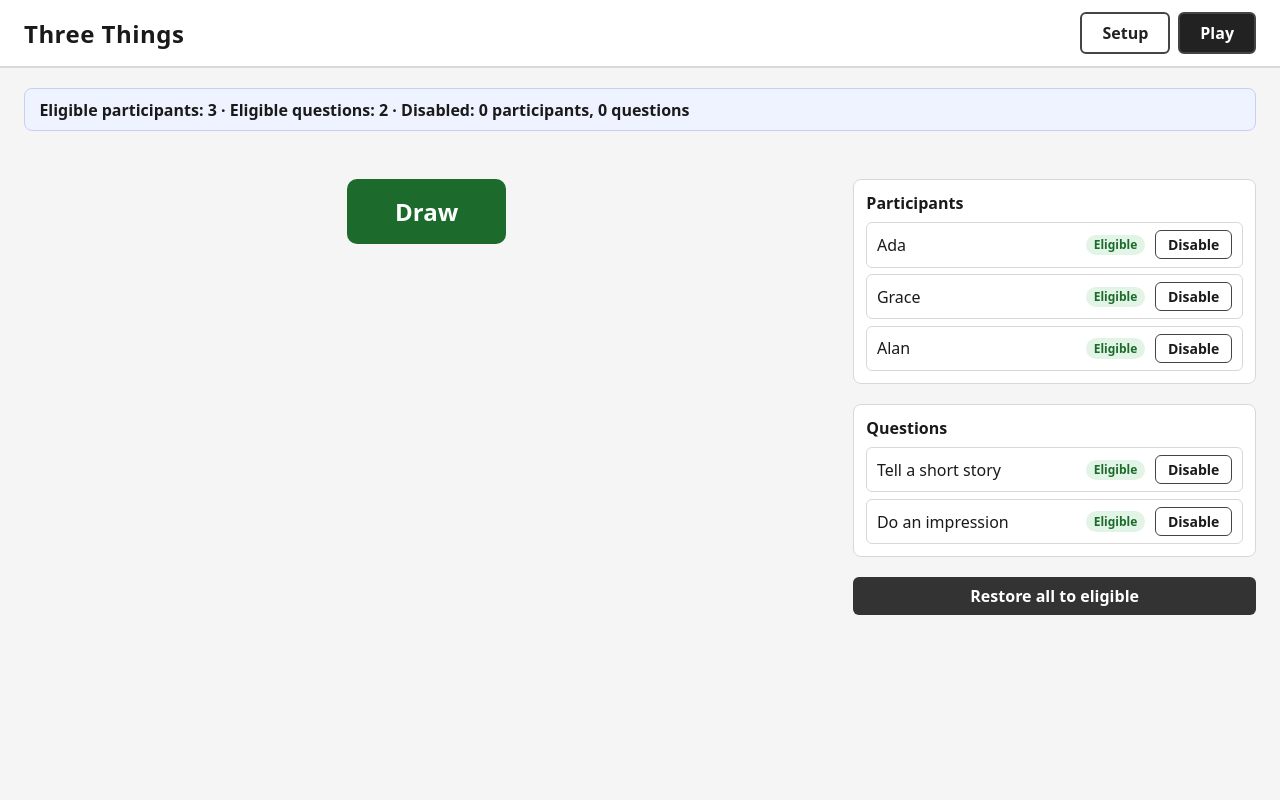
Scenario: round flow › shows the time-up signal and returns to idle on next round
Click the button "Draw". click: click(427, 212)
box: [347,179,506,244]
Wait 63000 ms
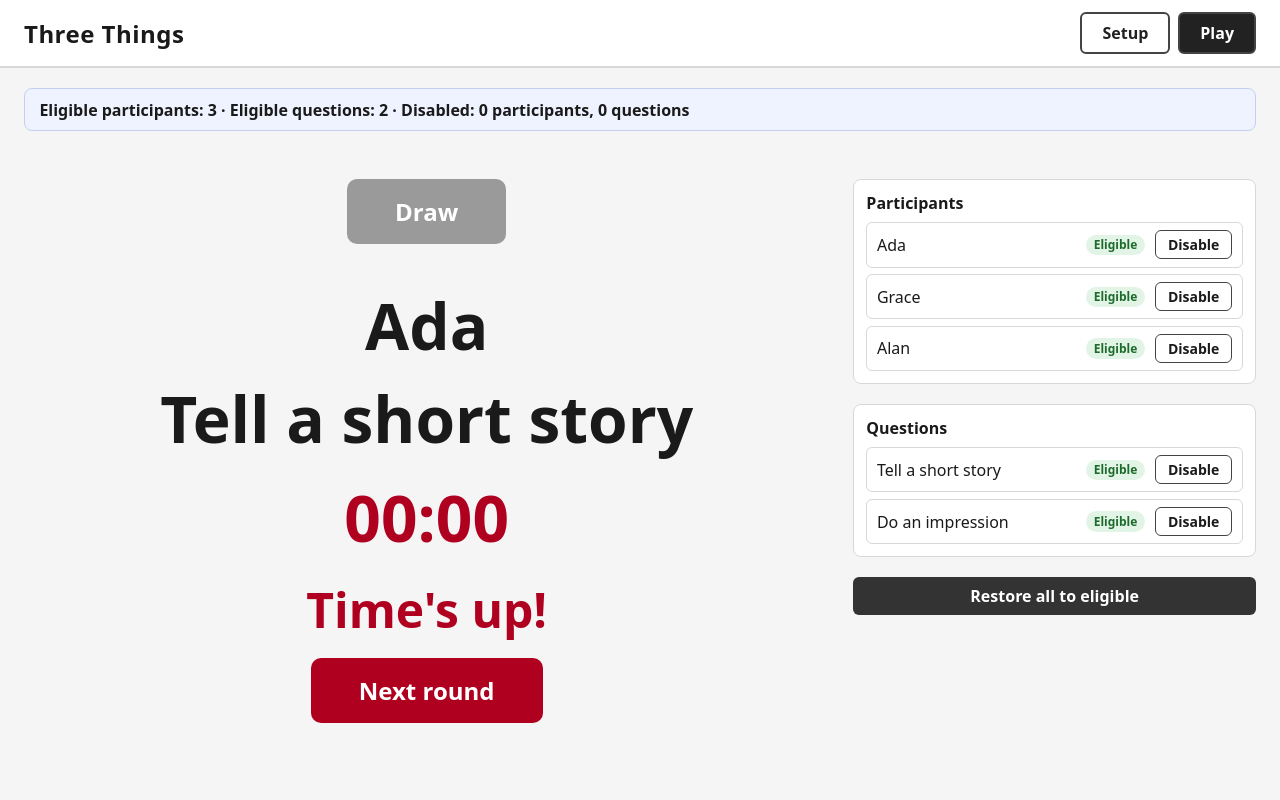
Now the text "Time's up!" is shown, box [306,577,547,642]
Now the text "00:00" is shown, box [344,474,509,561]
Now the number of buttons "Next round" is 1
Click the button "Next round". click: click(427, 690)
box: [311,658,543,723]
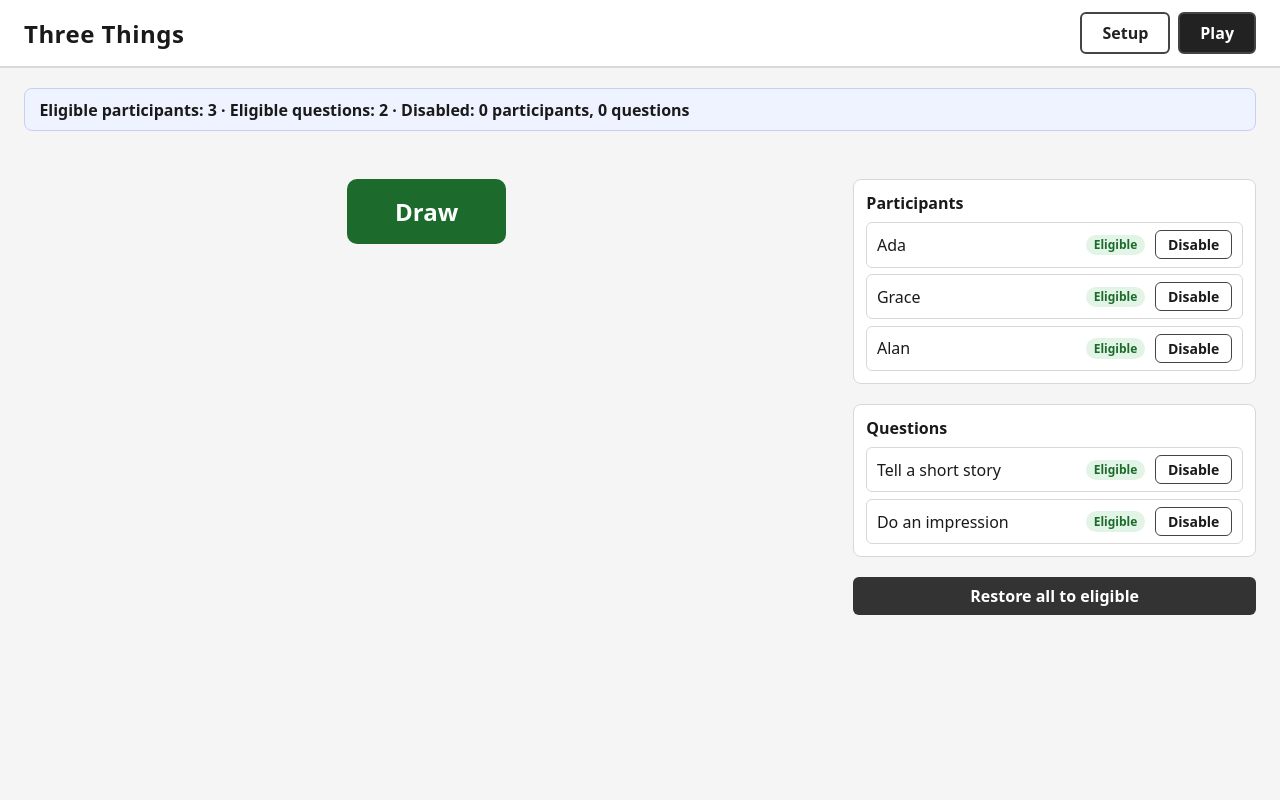
Now the button "Draw" is enabled, box [347,179,506,244]
